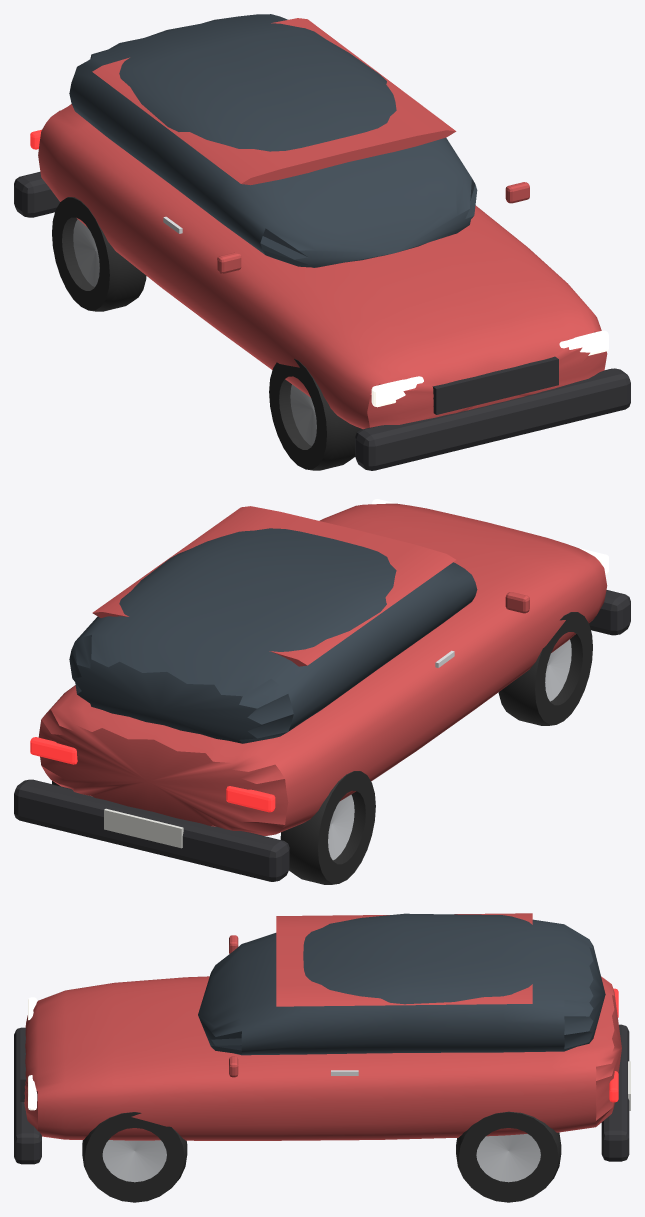
The model's file is car_hatch.glb.
3 views of the same model, one above another, from view 1: azimuth 30°, elevation 25°; view 2: azimuth 150°, elevation 25°; view 3: azimuth 270°, elevation 25° (orthographic). The views are drawn at different scales.
Visible parts, largest first — view 1: body, glass, trim_parts, roof, wheel_rl, wheel_fl, headlights, details; view 2: body, glass, trim_parts, roof, wheel_rl, wheel_fl, details, taillights; view 3: body, glass, wheel_rr, wheel_fr, roof, trim_parts, details, headlights.
Part boxes in pixels (<box>): body: <box>38,104,607,429</box>; glass: <box>69,14,477,267</box>; trim_parts: <box>14,172,630,470</box>; roof: <box>92,18,456,185</box>; wheel_rl: <box>52,197,146,311</box>; wheel_fl: <box>269,358,362,470</box>; headlights: <box>371,330,608,407</box>; details: <box>163,182,529,273</box>; body: <box>38,503,607,835</box>; glass: <box>69,528,477,743</box>; trim_parts: <box>14,590,630,881</box>; roof: <box>92,506,455,666</box>; wheel_rl: <box>280,771,375,884</box>; wheel_fl: <box>498,612,592,725</box>; details: <box>104,592,529,848</box>; taillights: <box>30,737,275,812</box>; body: <box>24,976,621,1140</box>; glass: <box>198,913,605,1055</box>; wheel_rr: <box>456,1111,561,1202</box>; wheel_fr: <box>82,1112,187,1202</box>; roof: <box>276,913,532,1006</box>; trim_parts: <box>14,1024,629,1164</box>; details: <box>229,935,630,1110</box>; headlights: <box>28,997,37,1110</box>.
Bounding box in the file's own units: 1.99 × 1.45 × 3.99.
